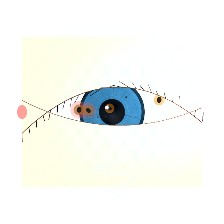foreign_body_visible: (98, 99, 122, 118)
